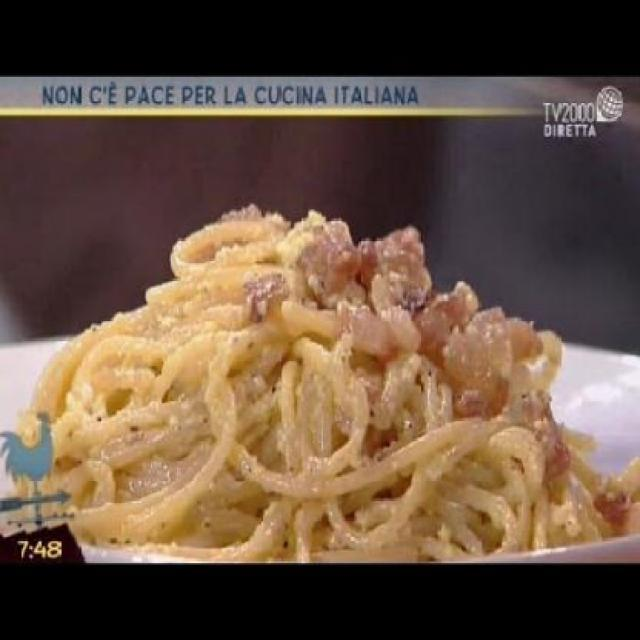Pasta with carbonara sauce: (39, 186, 622, 600)
